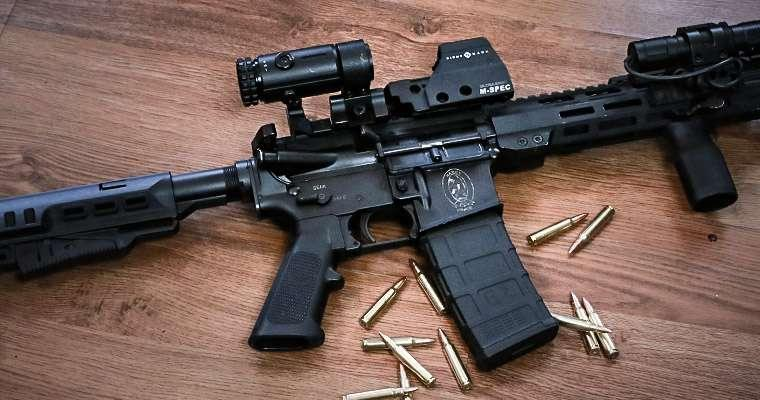larga: (0, 19, 760, 374)
